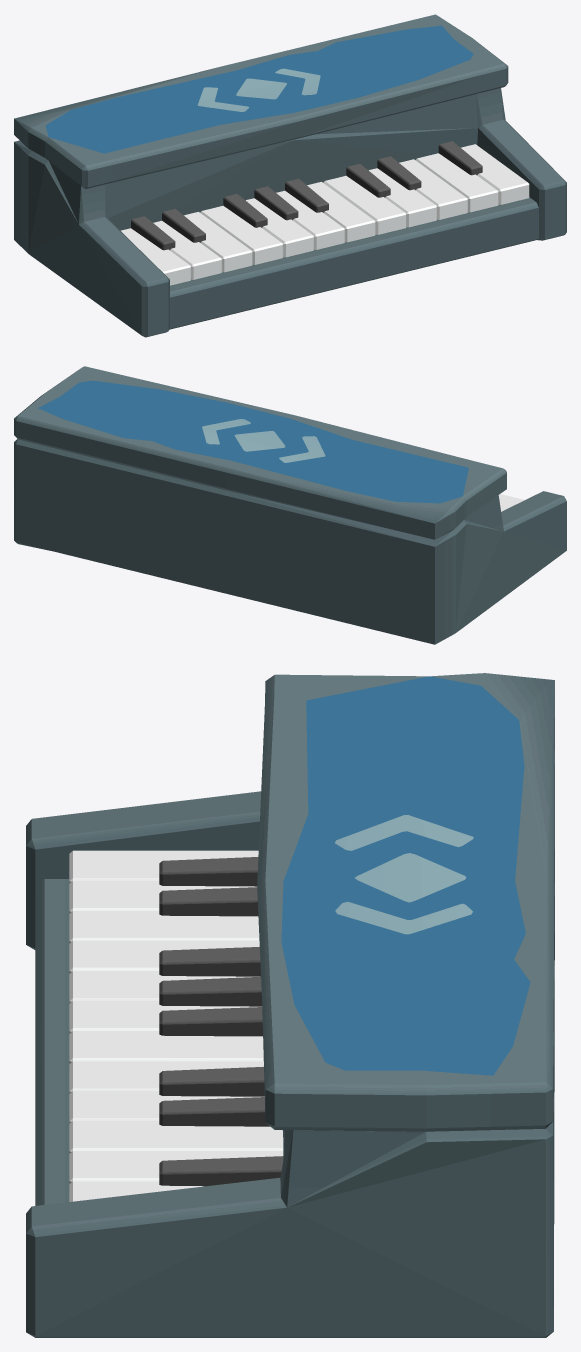
The model's file is CharSkyKid_Prop_PianoUpright.glb.
3 renders of one model, top to bottom at view 1: azimuth 30°, elevation 25°; view 2: azimuth 150°, elevation 25°; view 3: azimuth 270°, elevation 25°, orthographic. The views are drawn at different scales.
Parts seen in each view (by area): view 1: CharSkyKid_Prop_PianoUpright; view 2: CharSkyKid_Prop_PianoUpright; view 3: CharSkyKid_Prop_PianoUpright.
Part boxes in pixels (x1,y1,x2,y2): CharSkyKid_Prop_PianoUpright: [14, 14, 566, 337]; CharSkyKid_Prop_PianoUpright: [14, 366, 566, 644]; CharSkyKid_Prop_PianoUpright: [26, 673, 554, 1337].
Size of the model in its own units: 4.13 by 1.18 by 2.2.
1 material, 1 textured.
